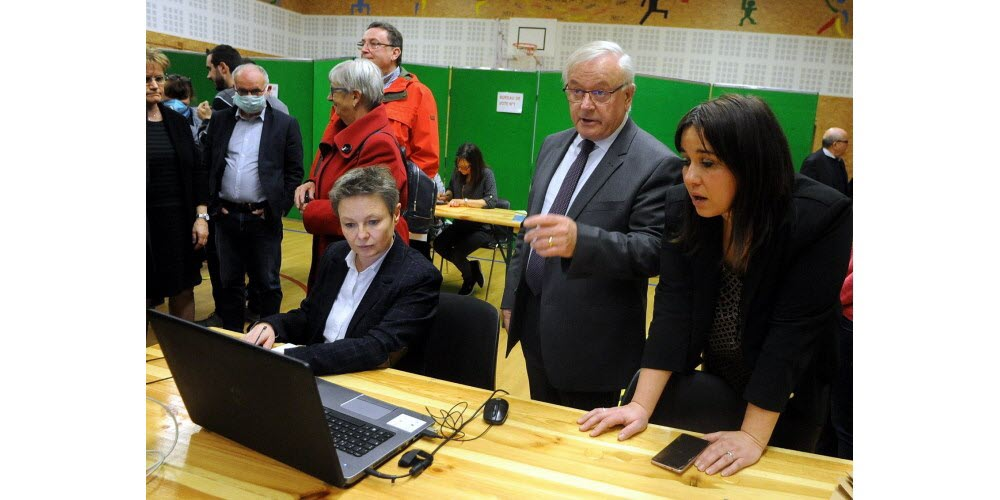with_mask: (234, 63, 269, 116)
without_mask: (677, 118, 744, 224), (560, 58, 633, 142), (335, 176, 402, 257), (327, 73, 366, 120), (358, 28, 402, 61), (147, 54, 167, 105), (205, 54, 228, 89), (826, 127, 849, 161), (455, 156, 471, 176)
